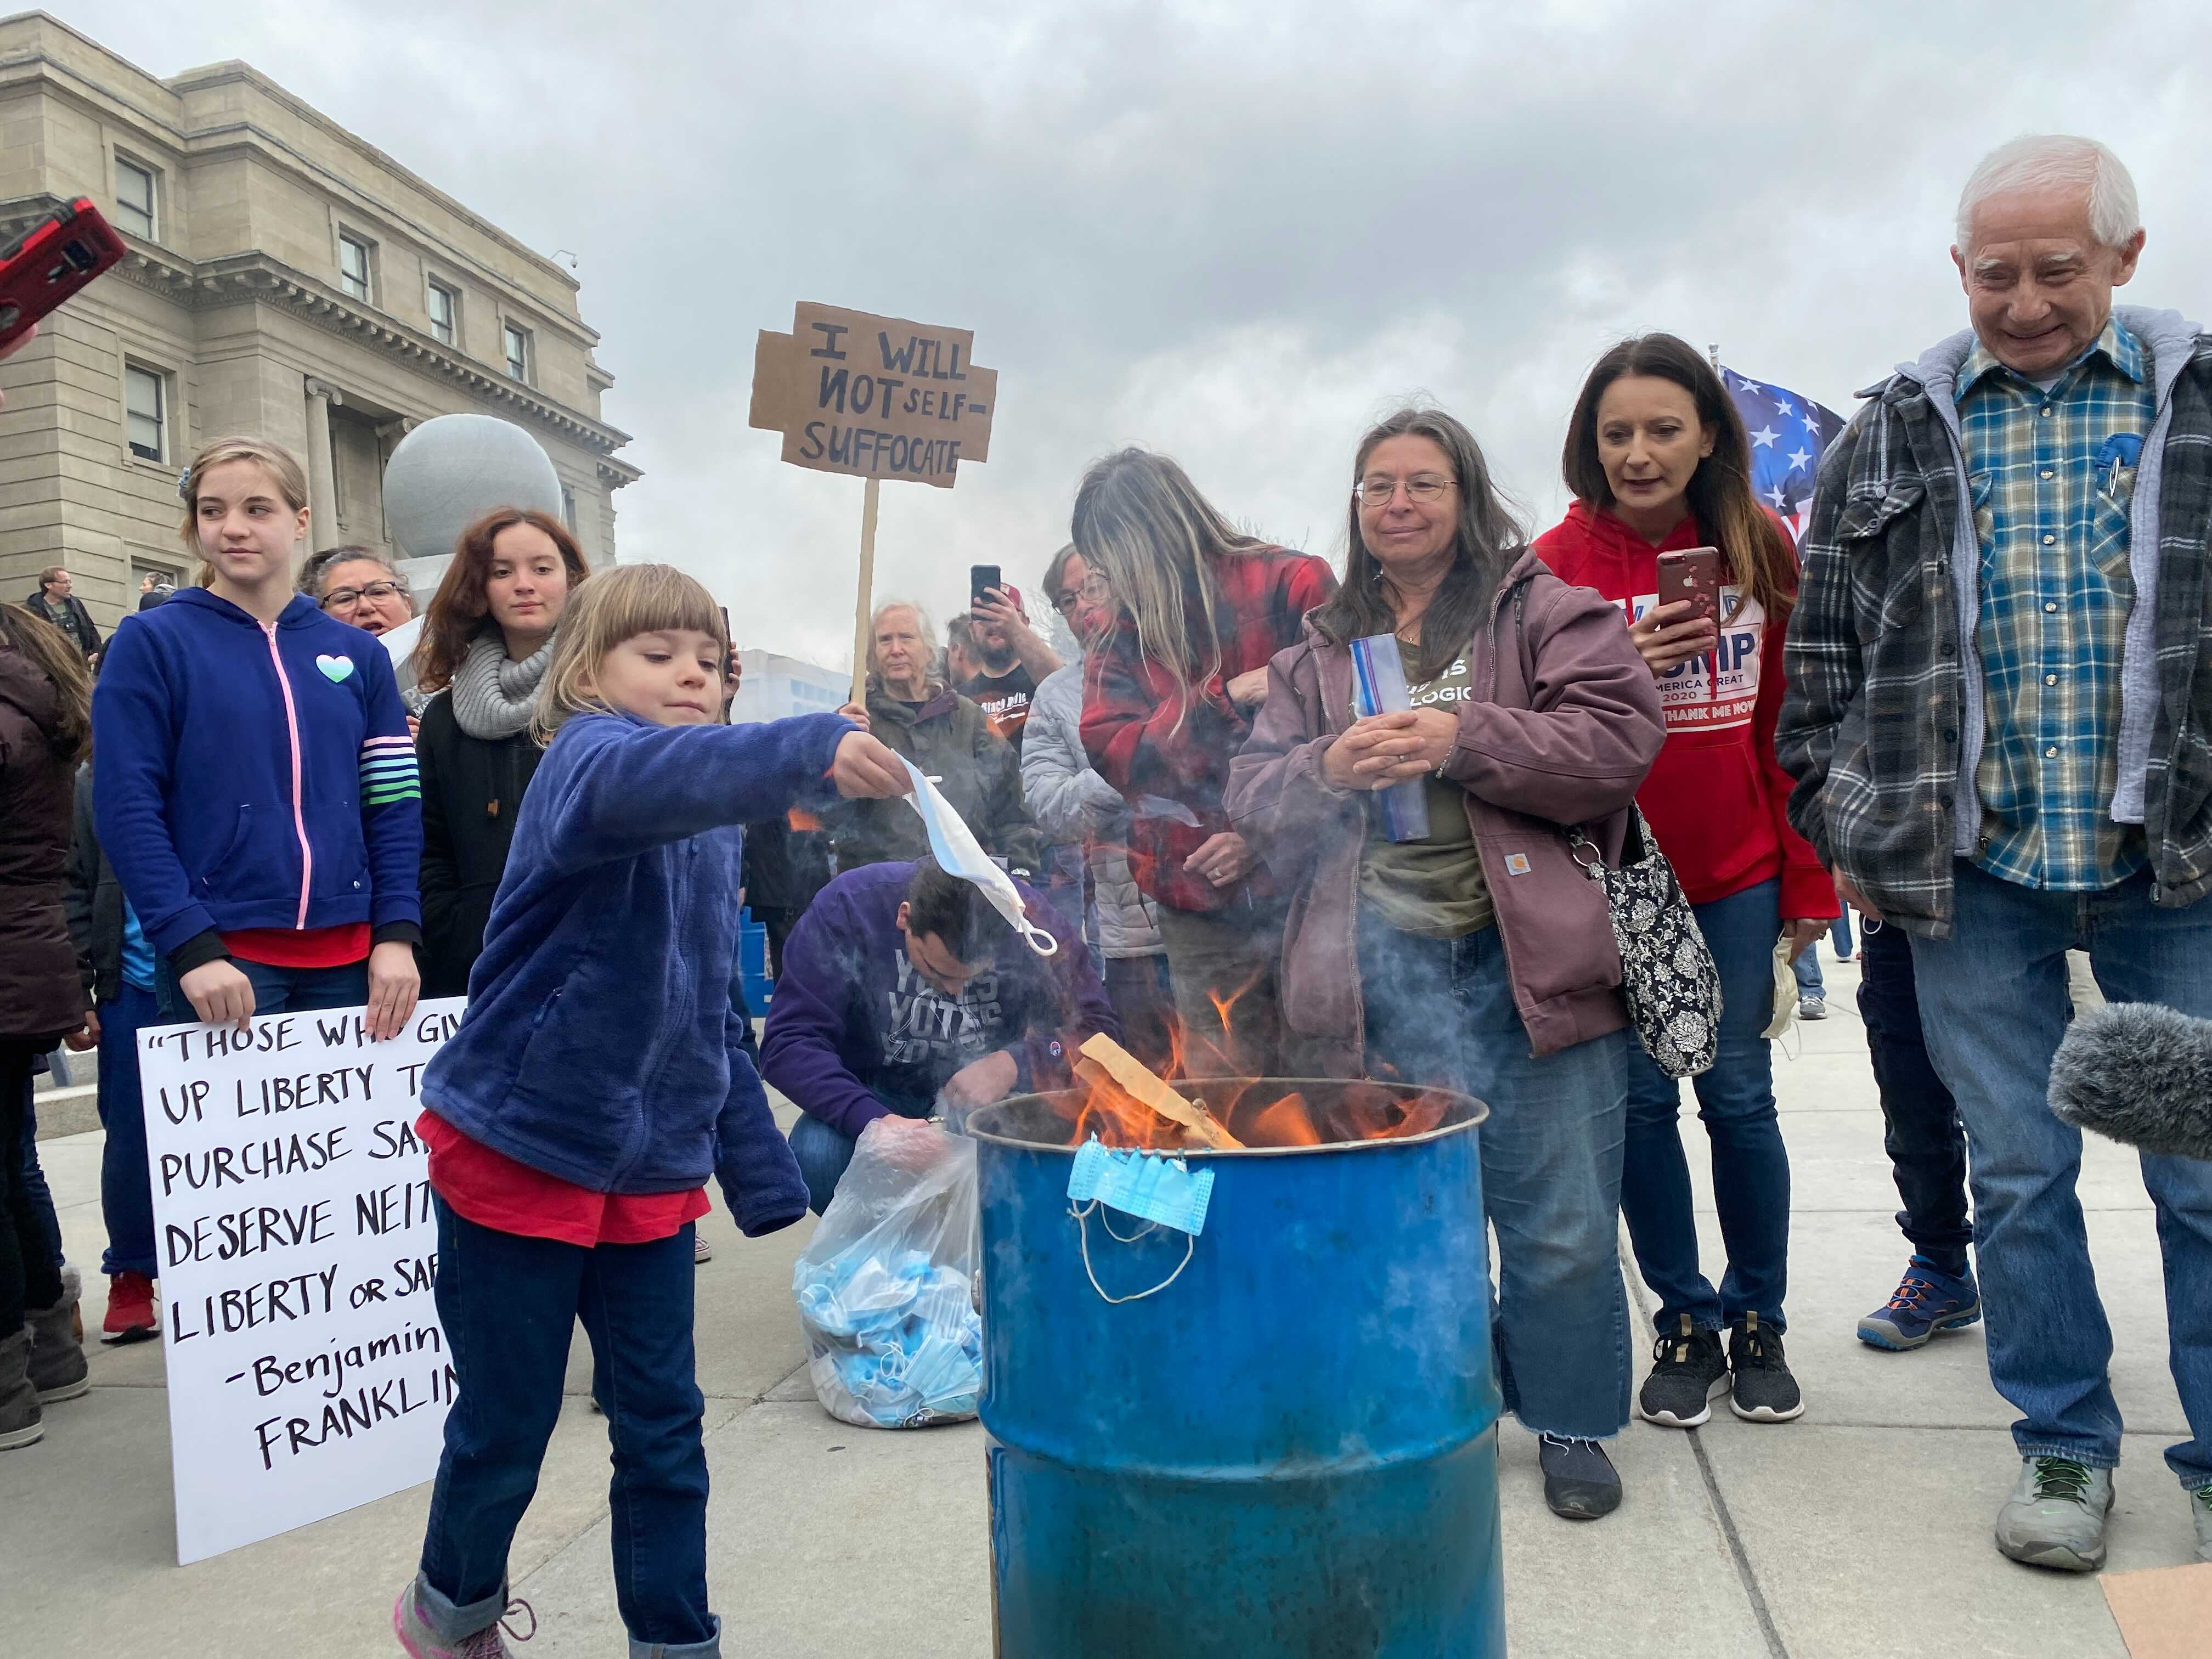without_mask: (1954, 226, 2105, 372), (608, 610, 733, 732), (1585, 396, 1703, 511), (1353, 453, 1457, 566), (198, 471, 295, 579), (488, 545, 572, 631)
